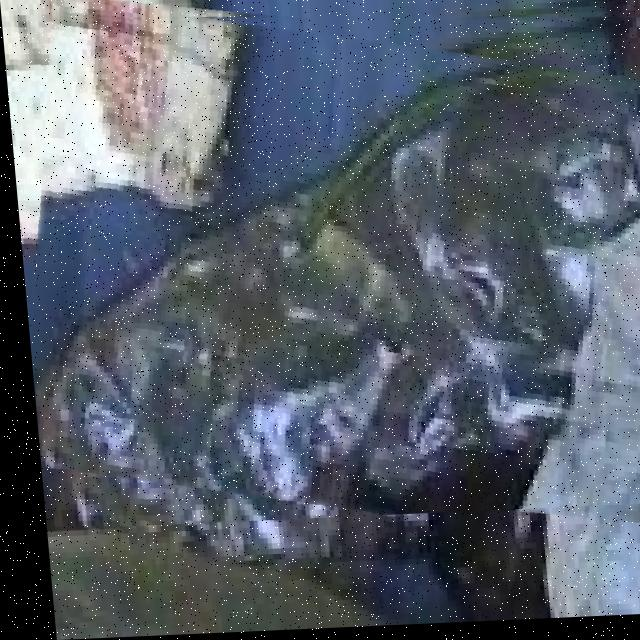litter: (2, 0, 640, 530)
